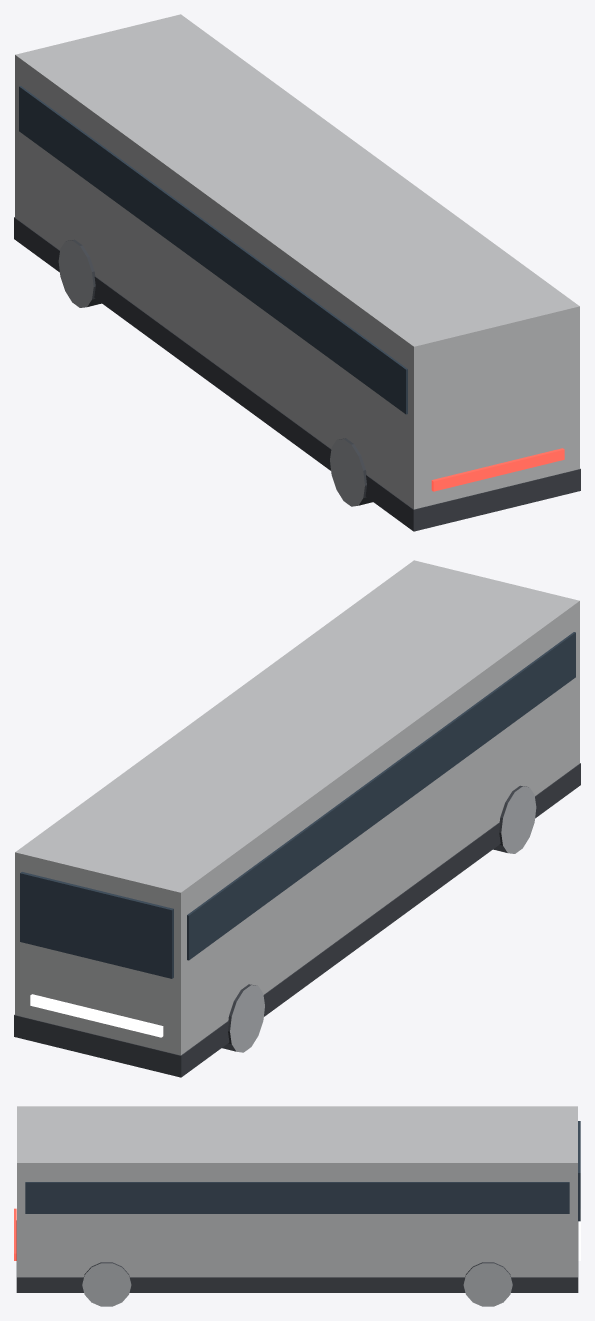
Rendered from bus_white.glb.
3 views of the same model, one above another, from view 1: azimuth 30°, elevation 25°; view 2: azimuth 150°, elevation 25°; view 3: azimuth 270°, elevation 25° (orthographic). The views are drawn at different scales.
Visible parts, largest first — view 1: body, windows, skirt, wheel (×2), taillights; view 2: body, windows, skirt, windshield, wheel (×2), headlights; view 3: body, windows, skirt, wheel (×2), windshield.
Boxes of the visible parts, bbox=[...] form: body: bbox=[15, 14, 579, 509]; windows: bbox=[19, 86, 407, 414]; skirt: bbox=[14, 217, 580, 531]; wheel (×2): bbox=[58, 239, 372, 506]; taillights: bbox=[431, 448, 564, 491]; body: bbox=[15, 560, 579, 1055]; windows: bbox=[187, 632, 575, 960]; skirt: bbox=[14, 763, 580, 1077]; windshield: bbox=[20, 872, 173, 978]; wheel (×2): bbox=[222, 785, 536, 1052]; headlights: bbox=[30, 994, 163, 1037]; body: bbox=[17, 1106, 577, 1277]; windows: bbox=[25, 1182, 569, 1213]; skirt: bbox=[16, 1220, 578, 1292]; wheel (×2): bbox=[82, 1262, 512, 1306]; windshield: bbox=[578, 1121, 580, 1221].
Bounding box in the file's own units: 2.48 × 2.81 × 10.11.
